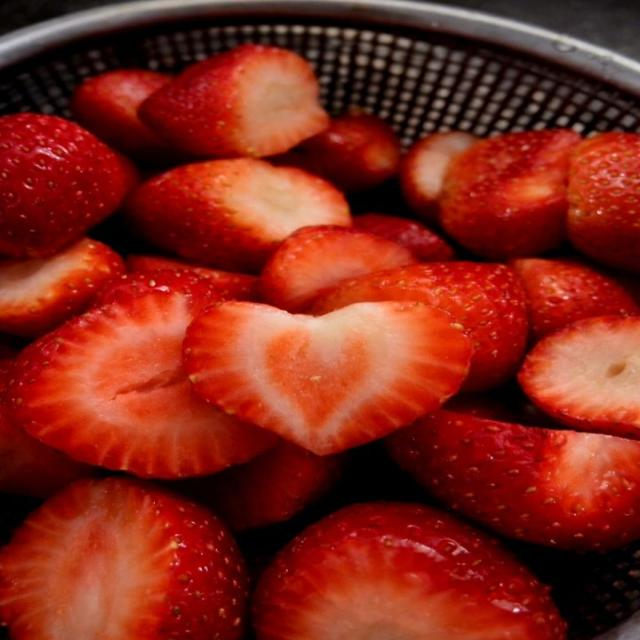strawberry sliced: (8, 291, 273, 478), (184, 302, 472, 455), (254, 503, 566, 639), (0, 478, 247, 639), (387, 408, 639, 550), (311, 262, 527, 390), (128, 159, 351, 270), (139, 45, 328, 156), (0, 113, 136, 258), (440, 130, 580, 259), (176, 441, 346, 530), (519, 316, 639, 438), (260, 226, 416, 312), (0, 239, 124, 336), (510, 259, 638, 339), (71, 69, 178, 163), (568, 133, 639, 272), (0, 399, 95, 497), (303, 111, 400, 192), (400, 131, 478, 223), (126, 255, 258, 301), (95, 269, 224, 307), (353, 213, 454, 261)
